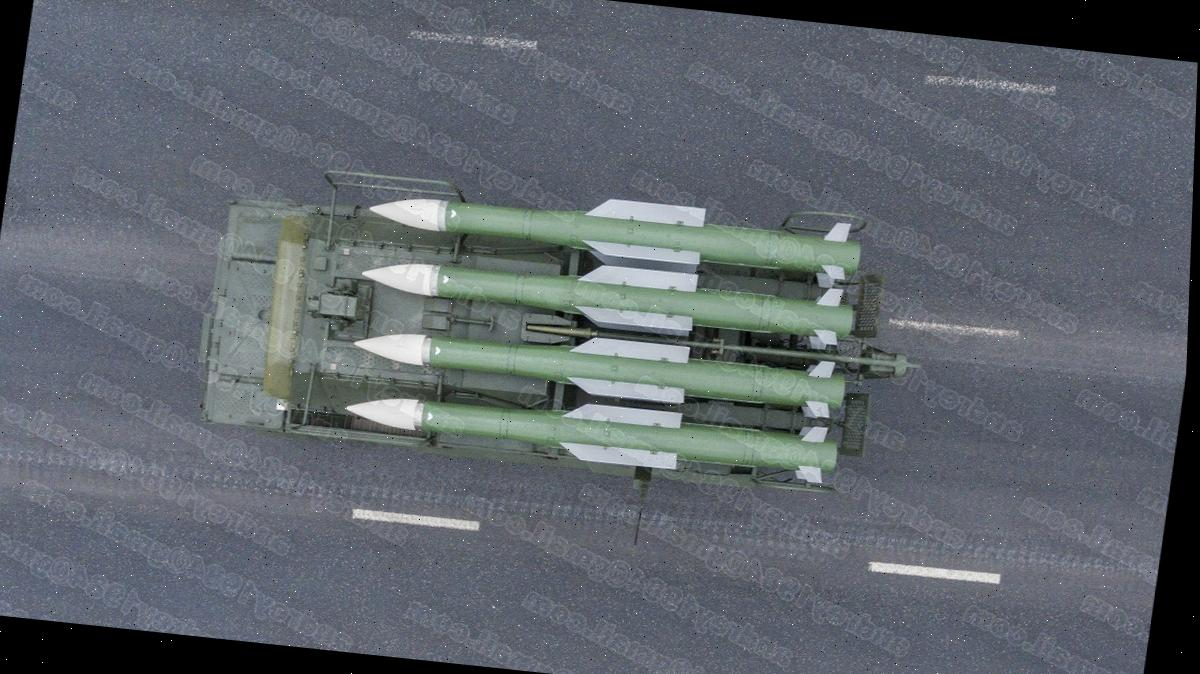armored_car: (174, 146, 938, 522)
